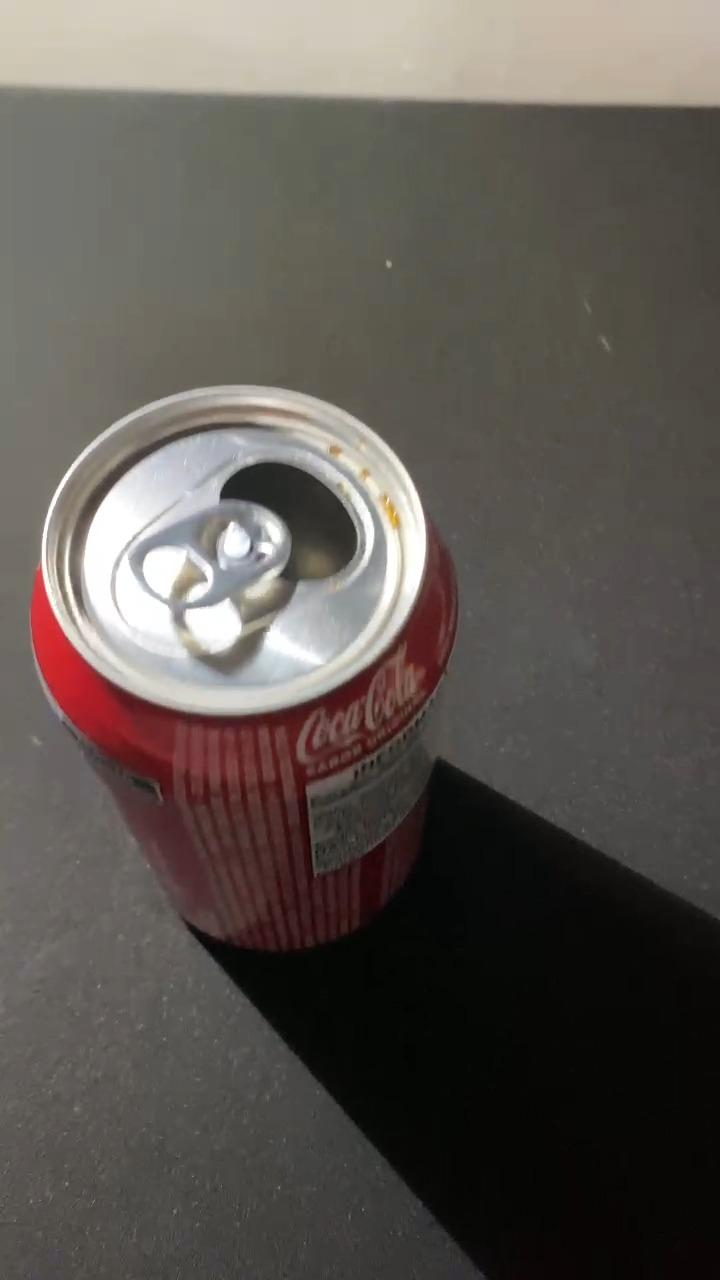coke: (29, 380, 465, 950)
